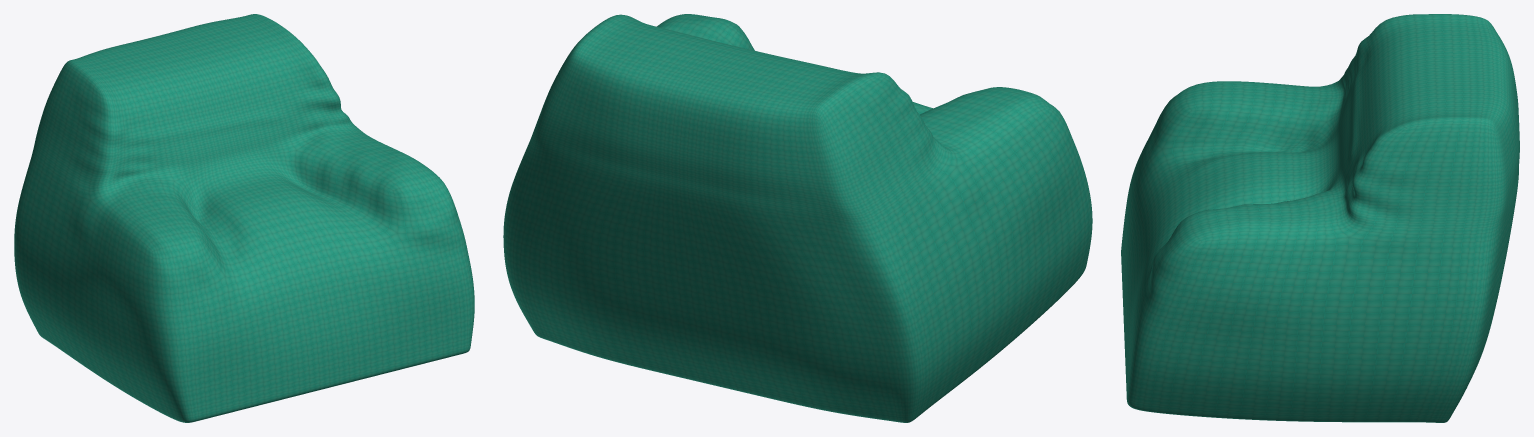
The model's file is veracruz.gltf.
3 views of the same model, side by side, from view 1: azimuth 30°, elevation 25°; view 2: azimuth 150°, elevation 25°; view 3: azimuth 270°, elevation 25° (orthographic). The views are drawn at different scales.
Parts seen in each view (by area): view 1: Cube.015; view 2: Cube.015; view 3: Cube.015.
Part boxes in pixels (x1,y1,x2,y2): Cube.015: (14,14,474,422); Cube.015: (503,14,1092,422); Cube.015: (1121,14,1519,422).
Size of the model in its own units: 5.52 by 4.09 by 5.29.
1 material, 1 textured.
